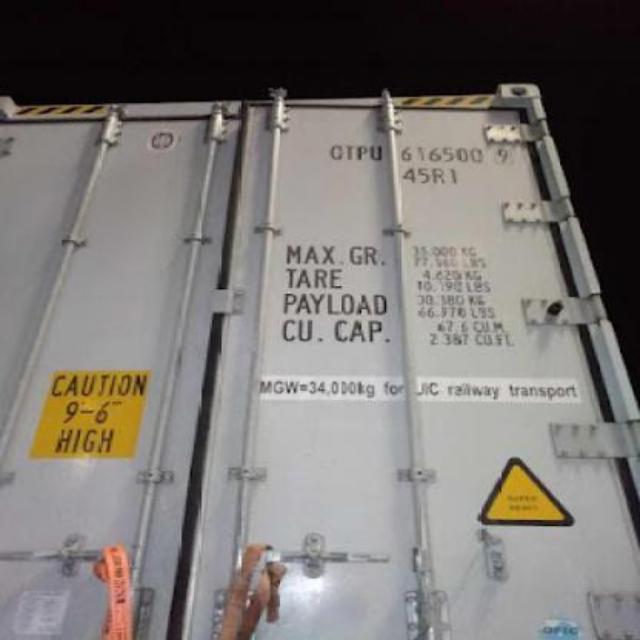0: (468, 142, 486, 168), (456, 142, 468, 166)
1: (414, 142, 428, 162)
5: (442, 138, 456, 166)
6: (426, 144, 442, 164), (400, 144, 412, 164)
9: (492, 144, 518, 168)
O: (328, 142, 342, 164)
P: (354, 144, 368, 162)
T: (342, 142, 356, 162)
U: (368, 140, 388, 163)
